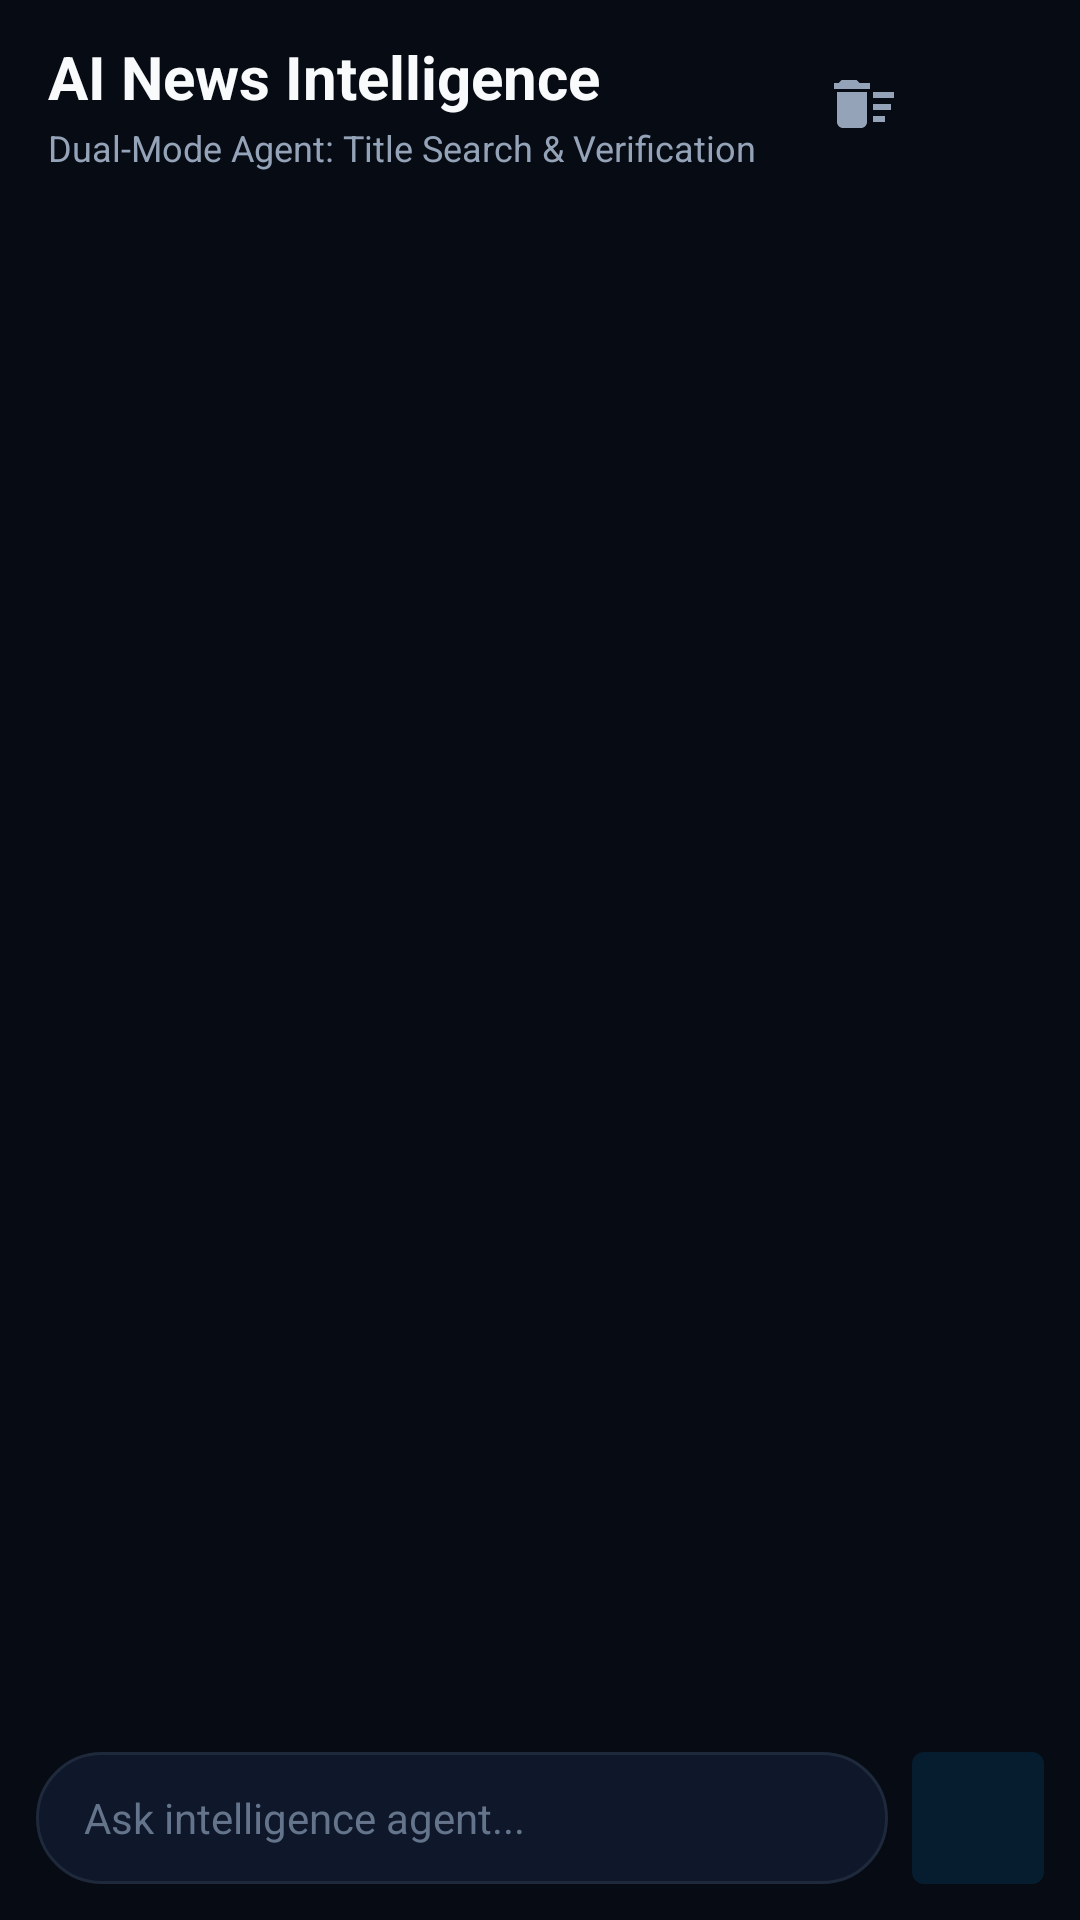

Screen size 1080 × 1920. Icon name, then its center in pixels as (x=x, y=y):
Reset conversation session: (x=864, y=104)
